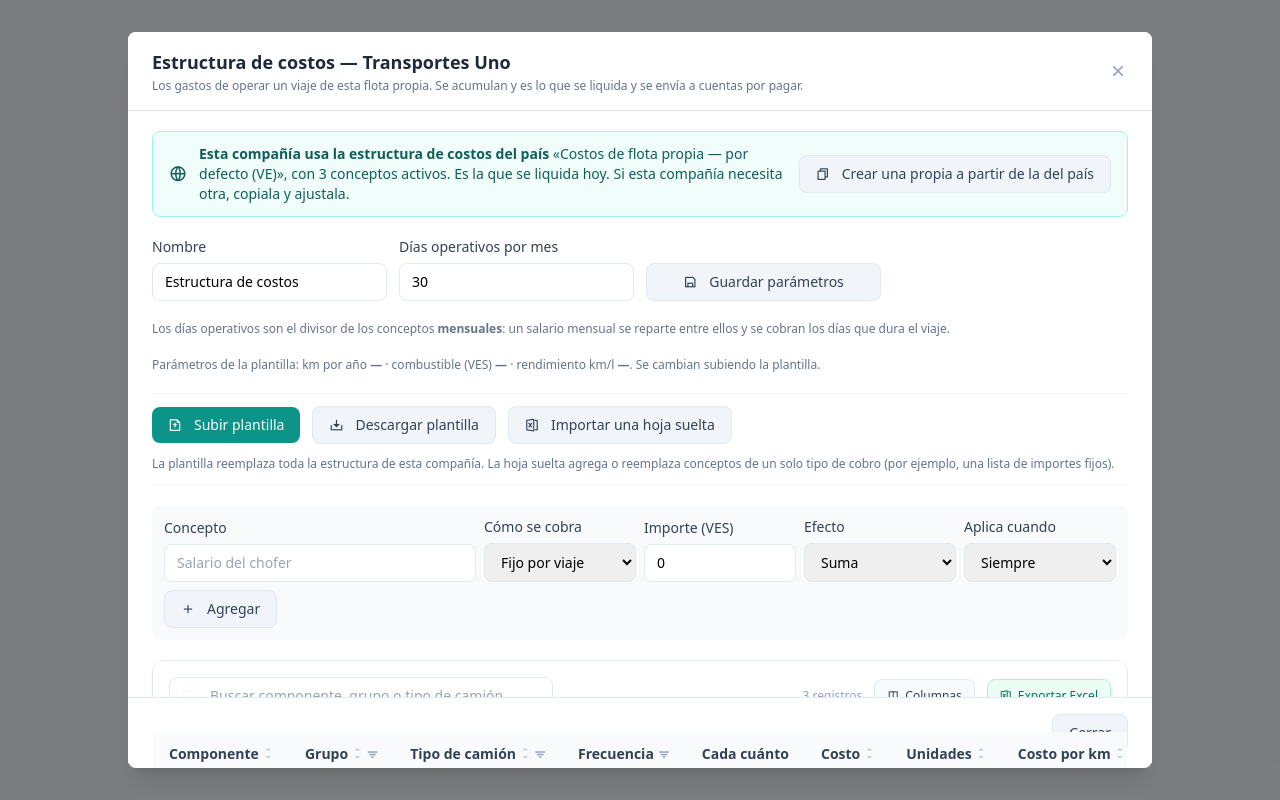
Test: CostStructureModal: estructura heredada › muestra la del país y bloquea agregar conceptos hasta crear una propia
The image size is (1280, 800).
Check: the text "Esta compañía usa la estructura de costos del país" is shown, box [199, 144, 549, 163]
Type "Seguro del vehículo" into the field labelled "Concepto" at (320, 563), box [164, 544, 476, 582]
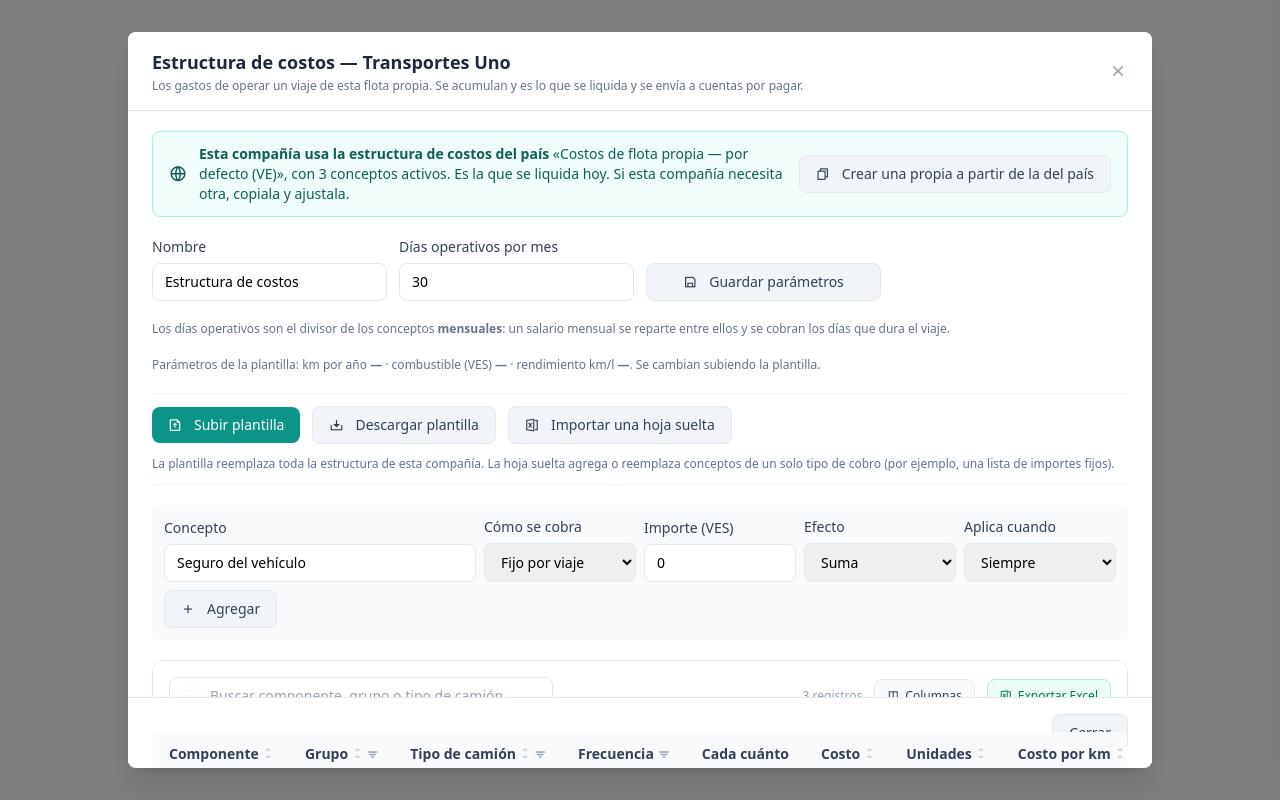
Replace the text in the field labelled "Importe (VES)" with "10" at (720, 563), box [644, 544, 796, 582]
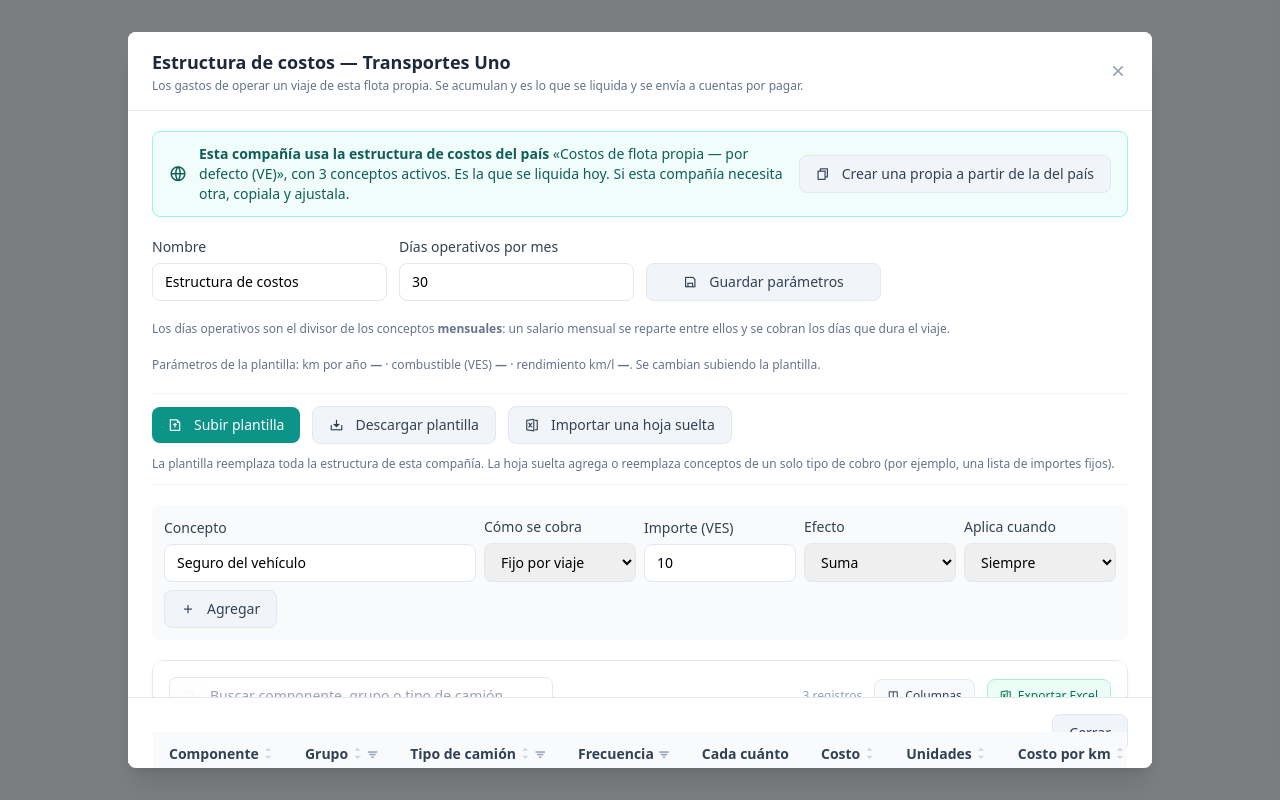
Click the button "Agregar" at (221, 609), box [164, 590, 277, 628]
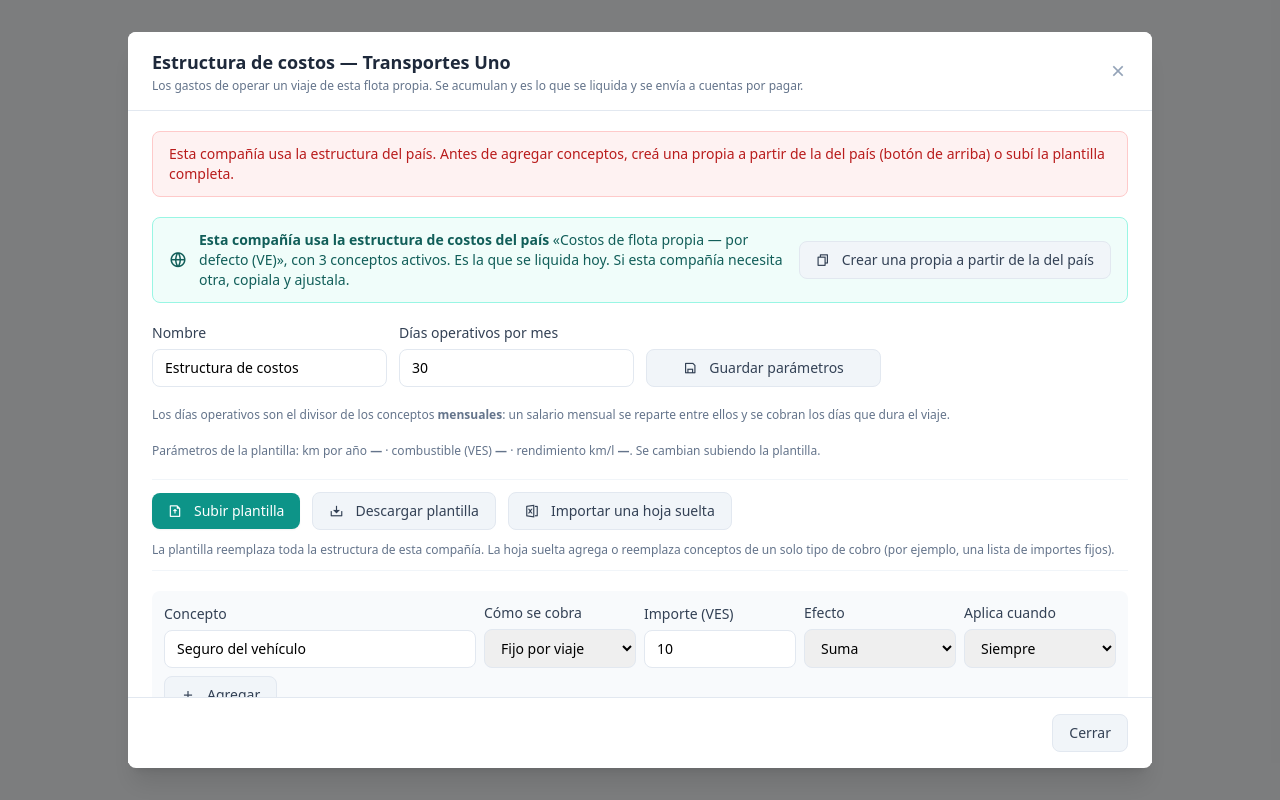
Check: the text "Esta compañía usa la estructura del país. Antes de agregar conceptos" is shown, box [169, 144, 1105, 183]
